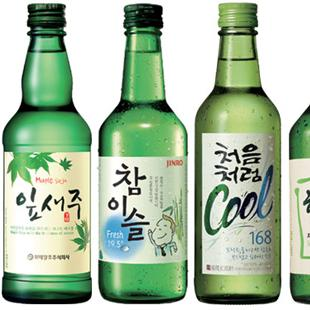soju: (3, 1, 285, 306)
